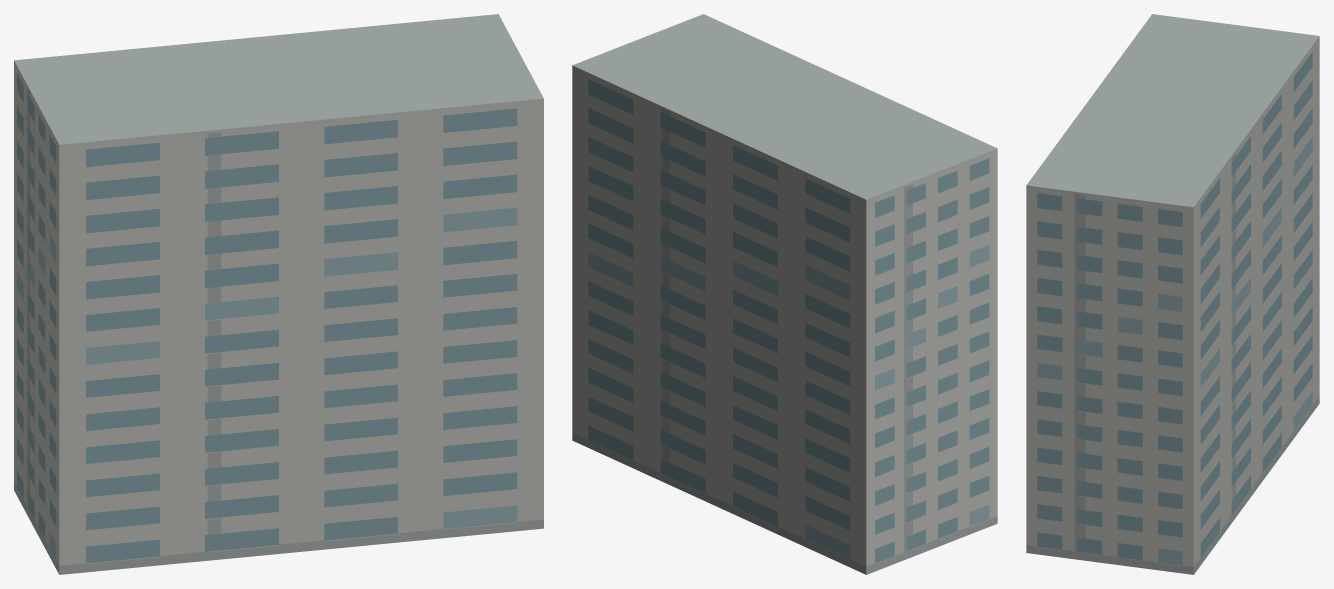
The model's file is residential-b7e4b17e-65f4-4cc2-9f4b-87edc79f48db.glb.
The picture shows the model from 3 angles, left to right: view 1: azimuth 30°, elevation 25°; view 2: azimuth 150°, elevation 25°; view 3: azimuth 270°, elevation 25°; orthographic projection. The views are drawn at different scales.
Parts seen in each view (by area): view 1: residential-b7e4b17e-65f4-4cc2-9f4b-87edc79f48db.tmp; view 2: residential-b7e4b17e-65f4-4cc2-9f4b-87edc79f48db.tmp; view 3: residential-b7e4b17e-65f4-4cc2-9f4b-87edc79f48db.tmp.
Part boxes in pixels (x1,y1,x2,y2): residential-b7e4b17e-65f4-4cc2-9f4b-87edc79f48db.tmp: (14,14,543,574); residential-b7e4b17e-65f4-4cc2-9f4b-87edc79f48db.tmp: (572,14,997,574); residential-b7e4b17e-65f4-4cc2-9f4b-87edc79f48db.tmp: (1026,14,1319,574).
Size of the model in its own units: 46.25 by 41 by 29.66.
